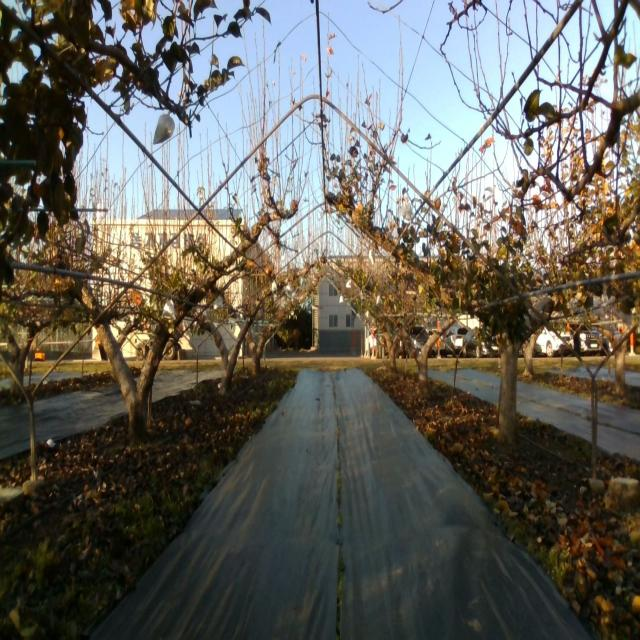pearbags: (153, 114, 175, 145), (161, 298, 176, 320), (400, 201, 412, 225)
